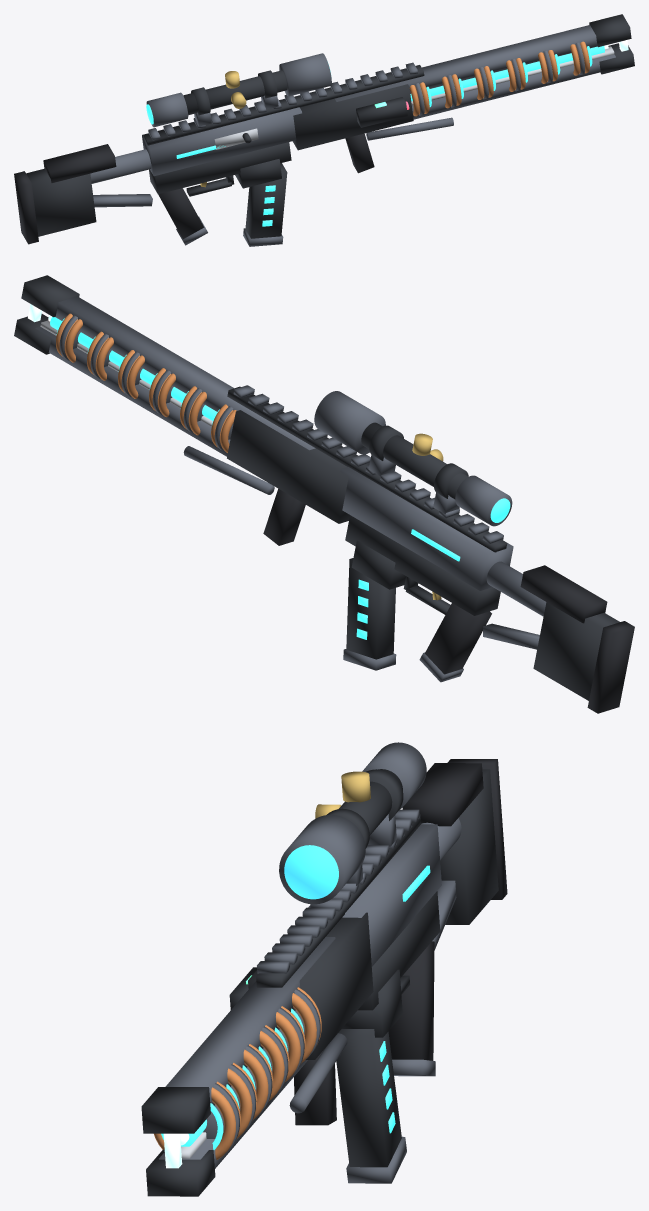
File: hero_railgun.glb
The picture shows the model from 3 angles, top to bottom: view 1: azimuth 30°, elevation 25°; view 2: azimuth 150°, elevation 25°; view 3: azimuth 270°, elevation 25°; orthographic projection. The views are drawn at different scales.
Parts seen in each view (by area): view 1: RG_UpperRec, RG_RailUpper, RG_Handguard, RG_StockBody, RG_LowerRec, RG_PicBase, RG_MagBody, RG_RailLower, RG_CheekRest, RG_ScopeObjBell, RG_ScopeTube, RG_Grip (+17 smaller); view 2: RG_UpperRec, RG_Handguard, RG_RailUpper, RG_StockBody, RG_LowerRec, RG_MagBody, RG_Buttpad, RG_PicBase, RG_Grip, RG_CheekRest, RG_ScopeObjBell, RG_RailLower (+11 smaller); view 3: RG_MagBody, RG_UpperRec, RG_RailUpper, RG_Handguard, RG_StockBody, RG_Grip, RG_CheekRest, RG_ScopeObjBell, RG_LowerRec, RG_MuzzleTop, RG_MuzzleBot, RG_ScopeFrontLens (+21 smaller).
Boxes of the visible parts, x1=… form: RG_UpperRec: x1=142, y1=98, x2=301, y2=176; RG_RailUpper: x1=335, y1=25, x2=597, y2=101; RG_Handguard: x1=292, y1=84, x2=413, y2=150; RG_StockBody: x1=26, y1=168, x2=96, y2=236; RG_LowerRec: x1=149, y1=142, x2=291, y2=194; RG_PicBase: x1=143, y1=65, x2=424, y2=145; RG_MagBody: x1=245, y1=163, x2=287, y2=238; RG_RailLower: x1=412, y1=54, x2=615, y2=119; RG_CheekRest: x1=43, y1=144, x2=116, y2=182; RG_ScopeObjBell: x1=279, y1=53, x2=331, y2=96; RG_ScopeTube: x1=183, y1=70, x2=287, y2=115; RG_Grip: x1=158, y1=188, x2=204, y2=238; RG_UpperRec: x1=340, y1=467, x2=513, y2=590; RG_Handguard: x1=227, y1=410, x2=349, y2=523; RG_RailUpper: x1=55, y1=296, x2=315, y2=450; RG_StockBody: x1=533, y1=602, x2=619, y2=700; RG_LowerRec: x1=345, y1=515, x2=500, y2=615; RG_MagBody: x1=346, y1=558, x2=395, y2=659; RG_Buttpad: x1=587, y1=621, x2=634, y2=713; RG_PicBase: x1=227, y1=386, x2=507, y2=552; RG_Grip: x1=425, y1=603, x2=491, y2=674; RG_CheekRest: x1=520, y1=565, x2=607, y2=623; RG_ScopeObjBell: x1=314, y1=391, x2=385, y2=454; RG_RailLower: x1=35, y1=326, x2=230, y2=456; RG_MagBody: x1=336, y1=1029, x2=401, y2=1167; RG_UpperRec: x1=308, y1=824, x2=441, y2=966; RG_RailUpper: x1=165, y1=937, x2=335, y2=1105; RG_Handguard: x1=248, y1=912, x2=373, y2=1059; RG_StockBody: x1=440, y1=769, x2=498, y2=924; RG_Grip: x1=388, y1=941, x2=434, y2=1060; RG_CheekRest: x1=402, y1=763, x2=483, y2=826; RG_ScopeObjBell: x1=279, y1=814, x2=365, y2=904; RG_LowerRec: x1=358, y1=891, x2=440, y2=1010; RG_MuzzleTop: x1=141, y1=1087, x2=210, y2=1133; RG_MuzzleBot: x1=146, y1=1149, x2=215, y2=1196; RG_ScopeFrontLens: x1=284, y1=845, x2=338, y2=899.
Bounding box in the file's own units: 1.34 × 0.4428 × 0.3909.
